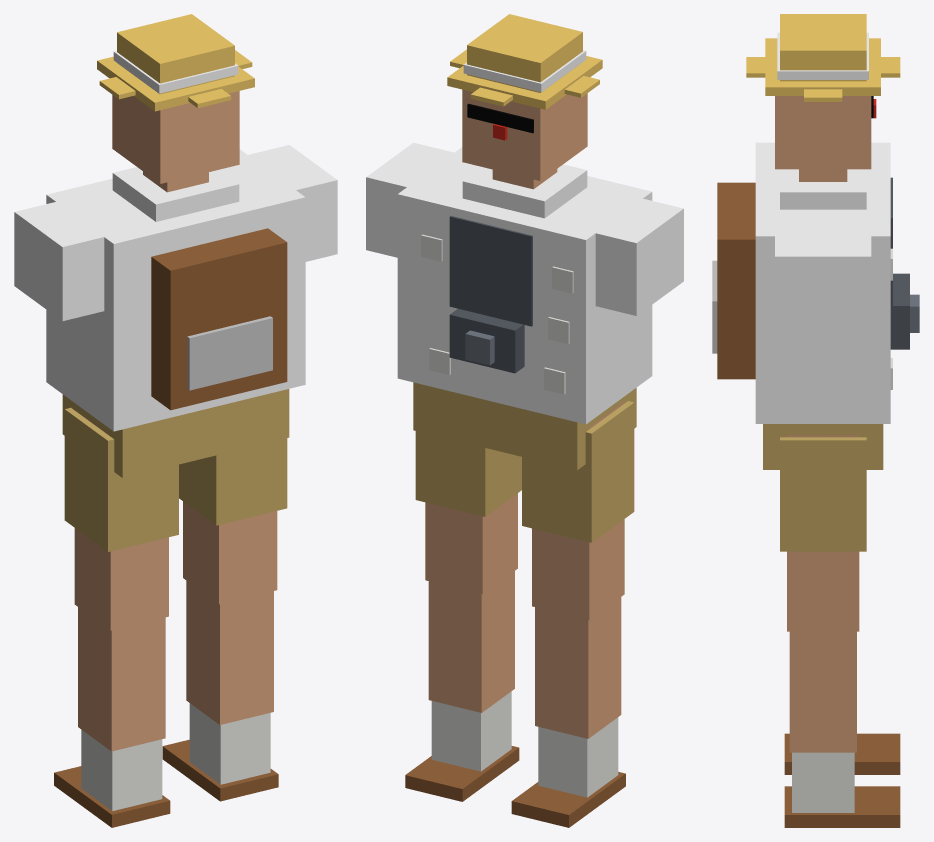
The model's file is TOURIST.gltf.
3 views of the same model, side by side, from view 1: azimuth 30°, elevation 25°; view 2: azimuth 150°, elevation 25°; view 3: azimuth 270°, elevation 25° (orthographic).
Parts seen in each view (by area): view 1: TOURIST; view 2: TOURIST; view 3: TOURIST.
Boxes of the visible parts, <box> form: TOURIST: <box>14,14,337,827</box>; TOURIST: <box>366,14,683,827</box>; TOURIST: <box>712,14,919,827</box>.
Size of the model in its own units: 0.66 by 1.73 by 0.43.
